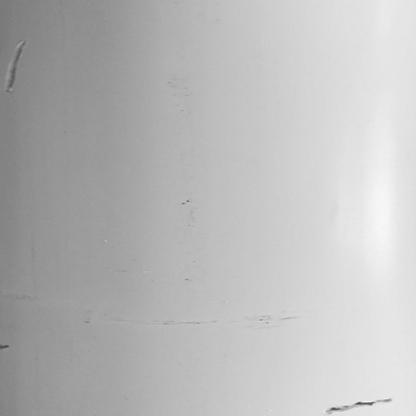fengxi: (323, 399, 391, 415)
sunshang: (5, 38, 29, 94)
